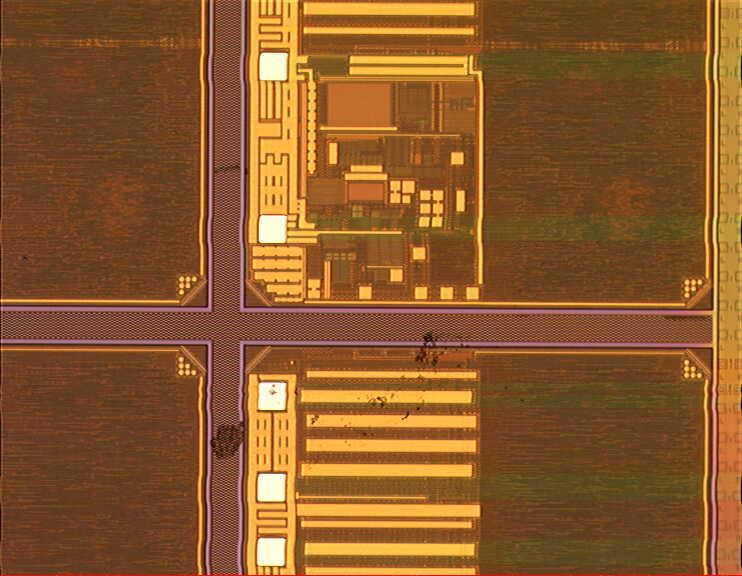PIQ PARTICLE: (208, 331, 533, 462)
